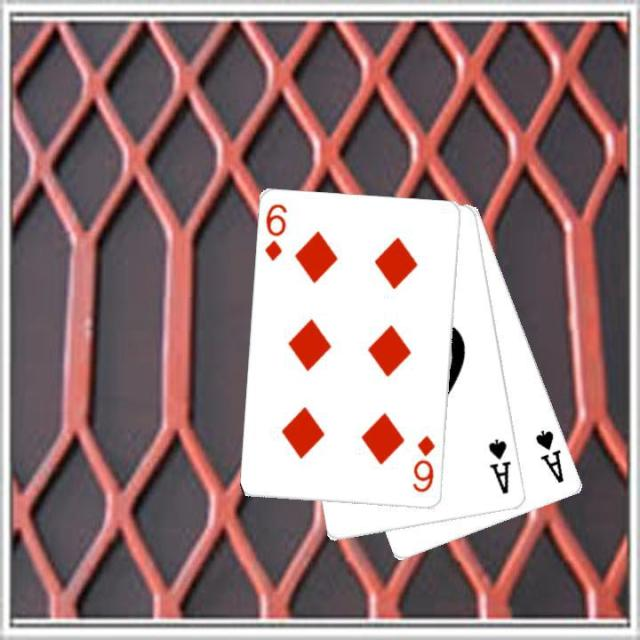6D: (409, 432, 437, 495), (261, 201, 289, 263)
AS: (532, 427, 566, 485), (485, 436, 514, 496)
